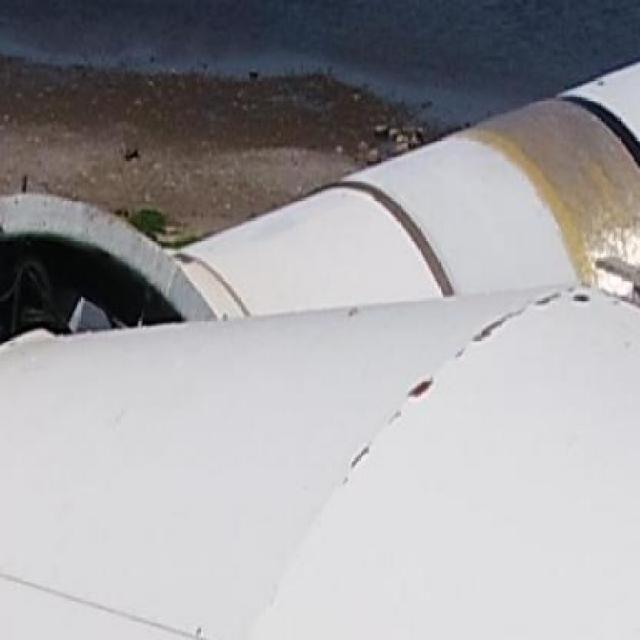Crack: (343, 447, 369, 487), (389, 408, 400, 428), (455, 345, 468, 357)
EROSION: (474, 308, 524, 344), (410, 375, 433, 397), (538, 293, 559, 305), (571, 293, 591, 302)
